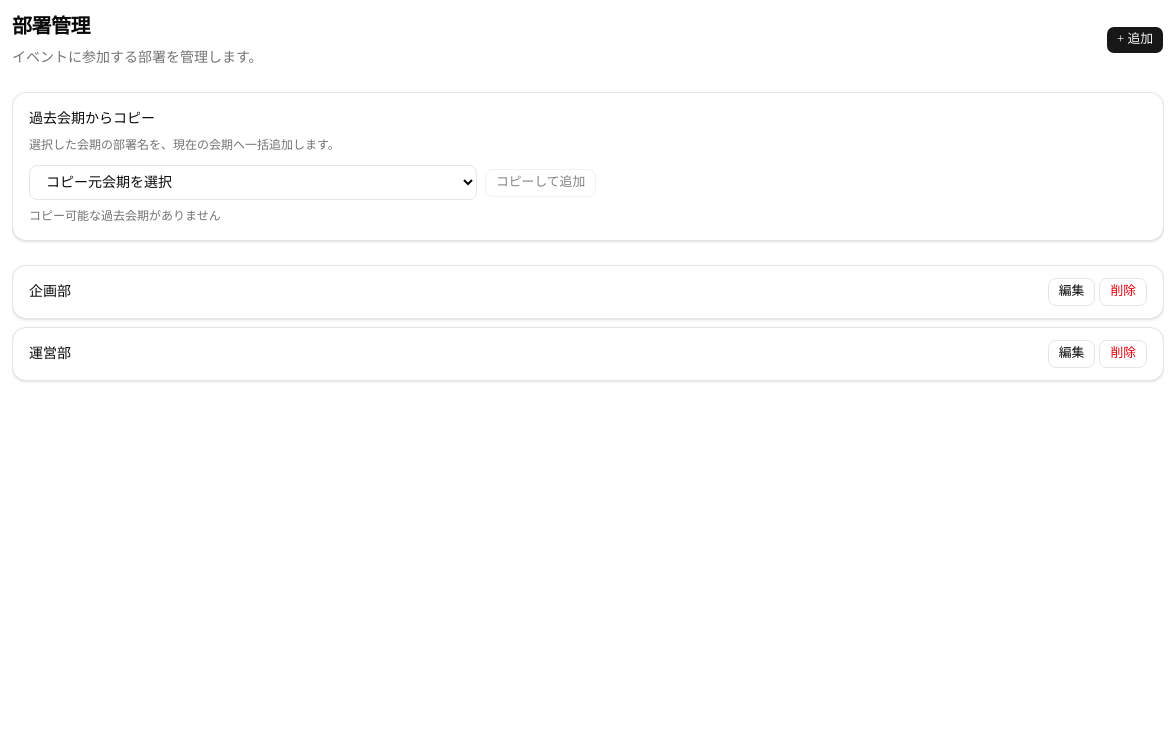
Test: DepartmentAdminPanel › キャンセルボタンでフォームを閉じる
Click the button "+ 追加" at (1135,40), box [1106, 26, 1164, 54]
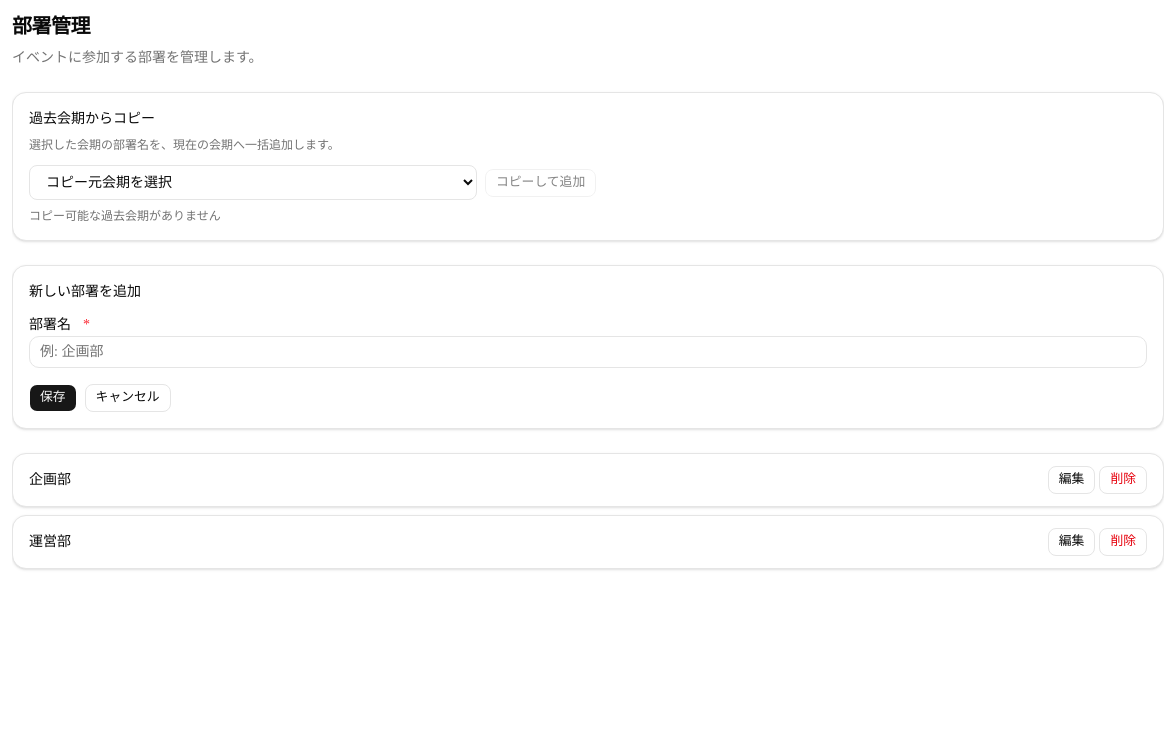
Check: the heading "新しい部署を追加" is shown, box [29, 284, 141, 299]
Click the button "キャンセル" at (128,398), box [85, 384, 171, 412]
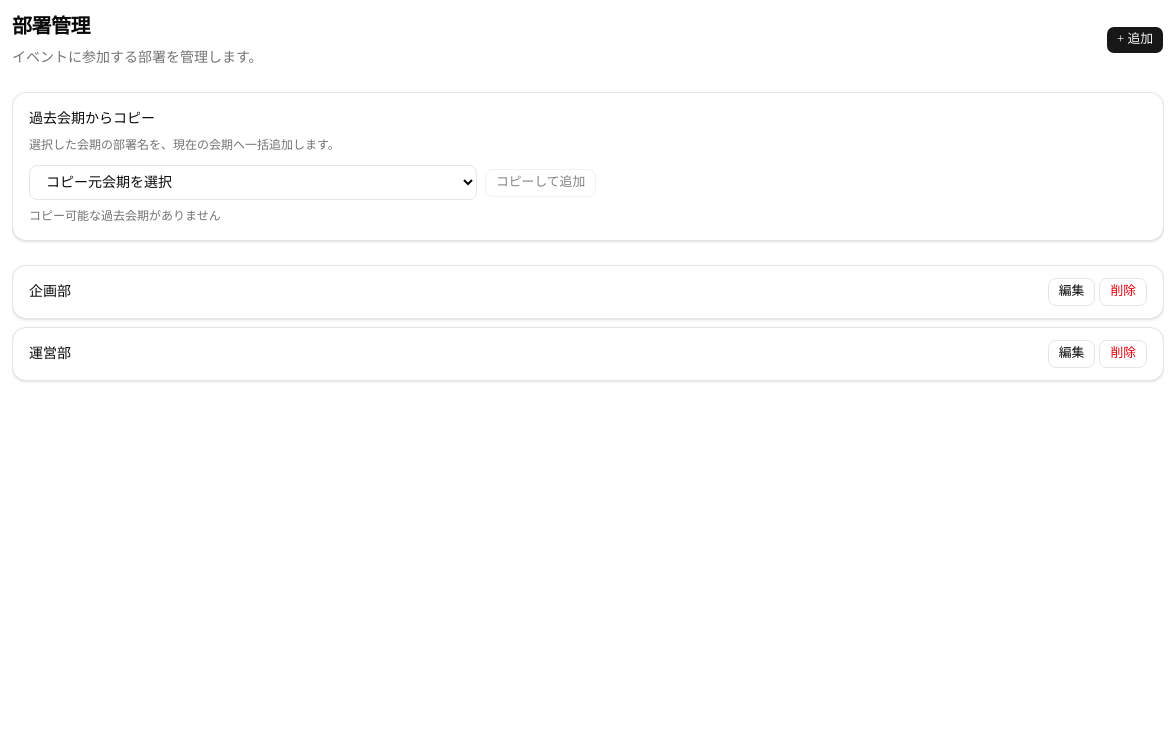
Check: the heading "新しい部署を追加" is gone
